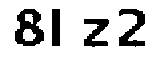2: (114, 5, 153, 53)
8: (11, 6, 45, 49)
I: (48, 1, 67, 52)
z: (78, 15, 111, 51)
